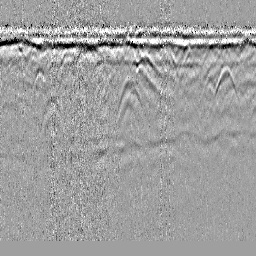cavity: (114, 74, 143, 115)
